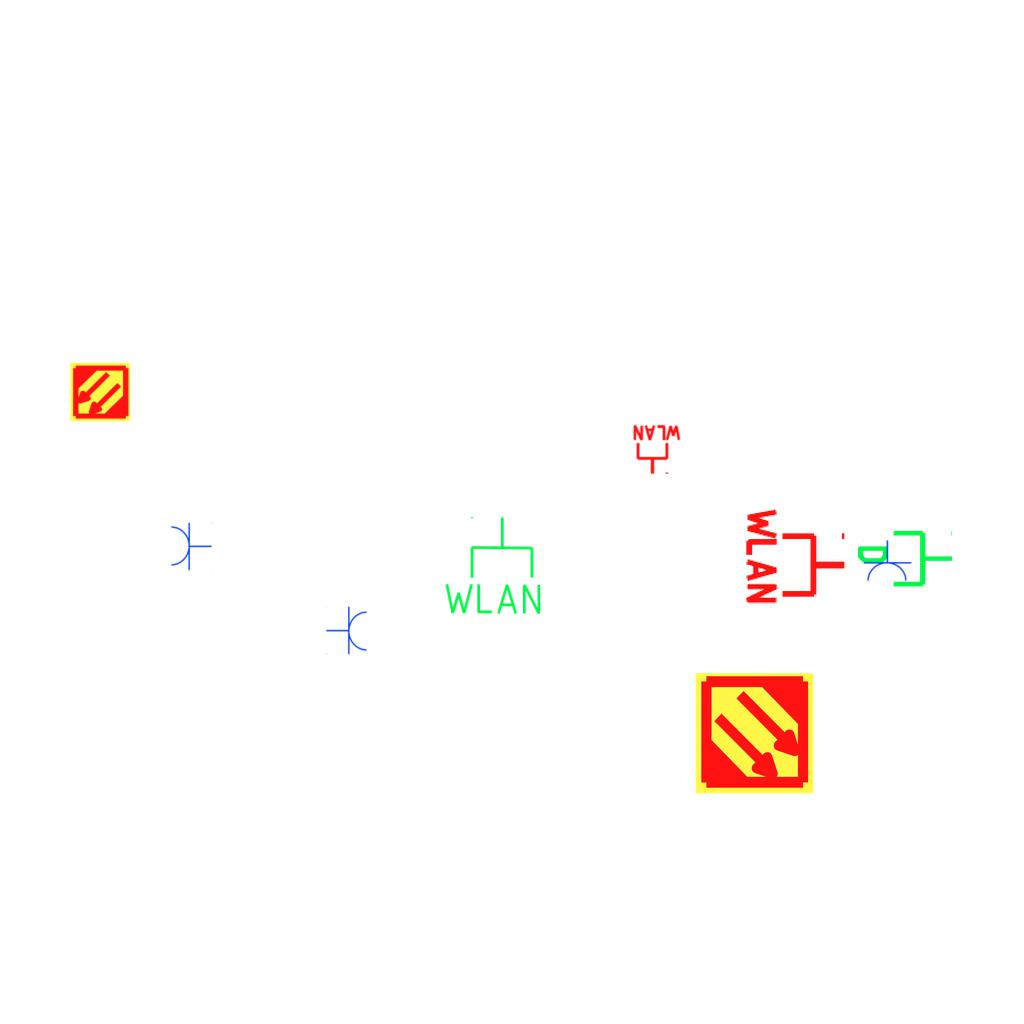ASR_Ansaugrauchmelder: (692, 671, 817, 796), (69, 361, 131, 423)
Datenanschluss_einfach: (855, 526, 955, 595)
Schukosteckdose_einfach: (169, 521, 212, 571), (326, 606, 369, 656), (862, 540, 912, 583)
WLAN: (744, 504, 849, 608), (440, 514, 545, 618), (631, 424, 683, 476)
